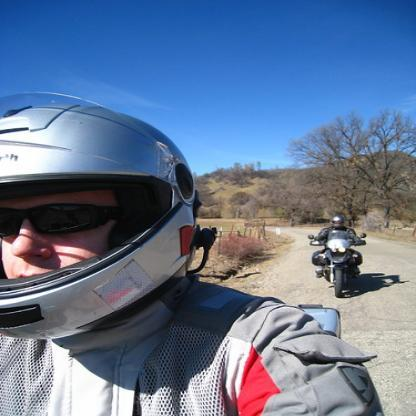helmet: (0, 104, 196, 340), (330, 214, 345, 229)
